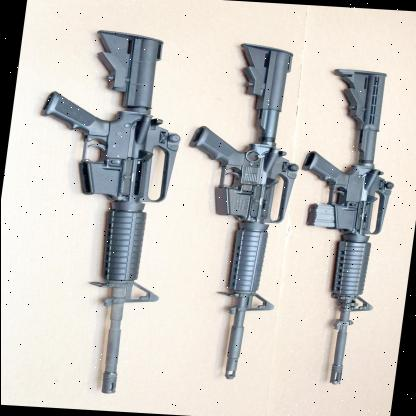rifle: (9, 26, 200, 396), (162, 40, 313, 382), (278, 68, 412, 386)
